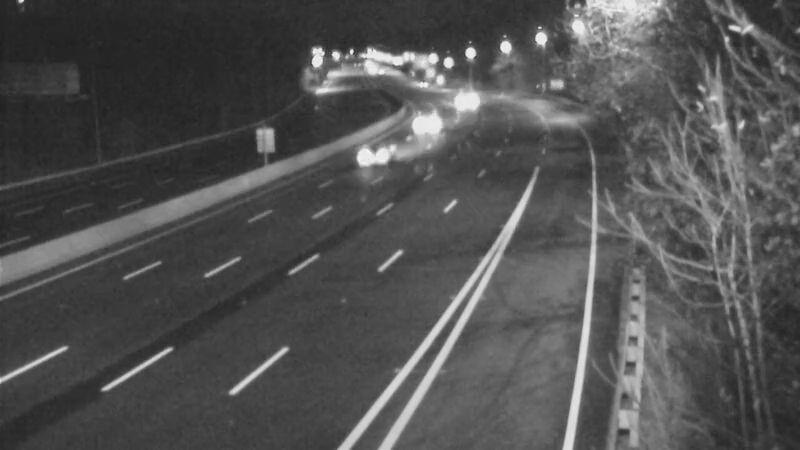vehicle: (335, 113, 415, 193), (401, 62, 451, 112), (439, 75, 489, 125), (404, 96, 454, 146)
